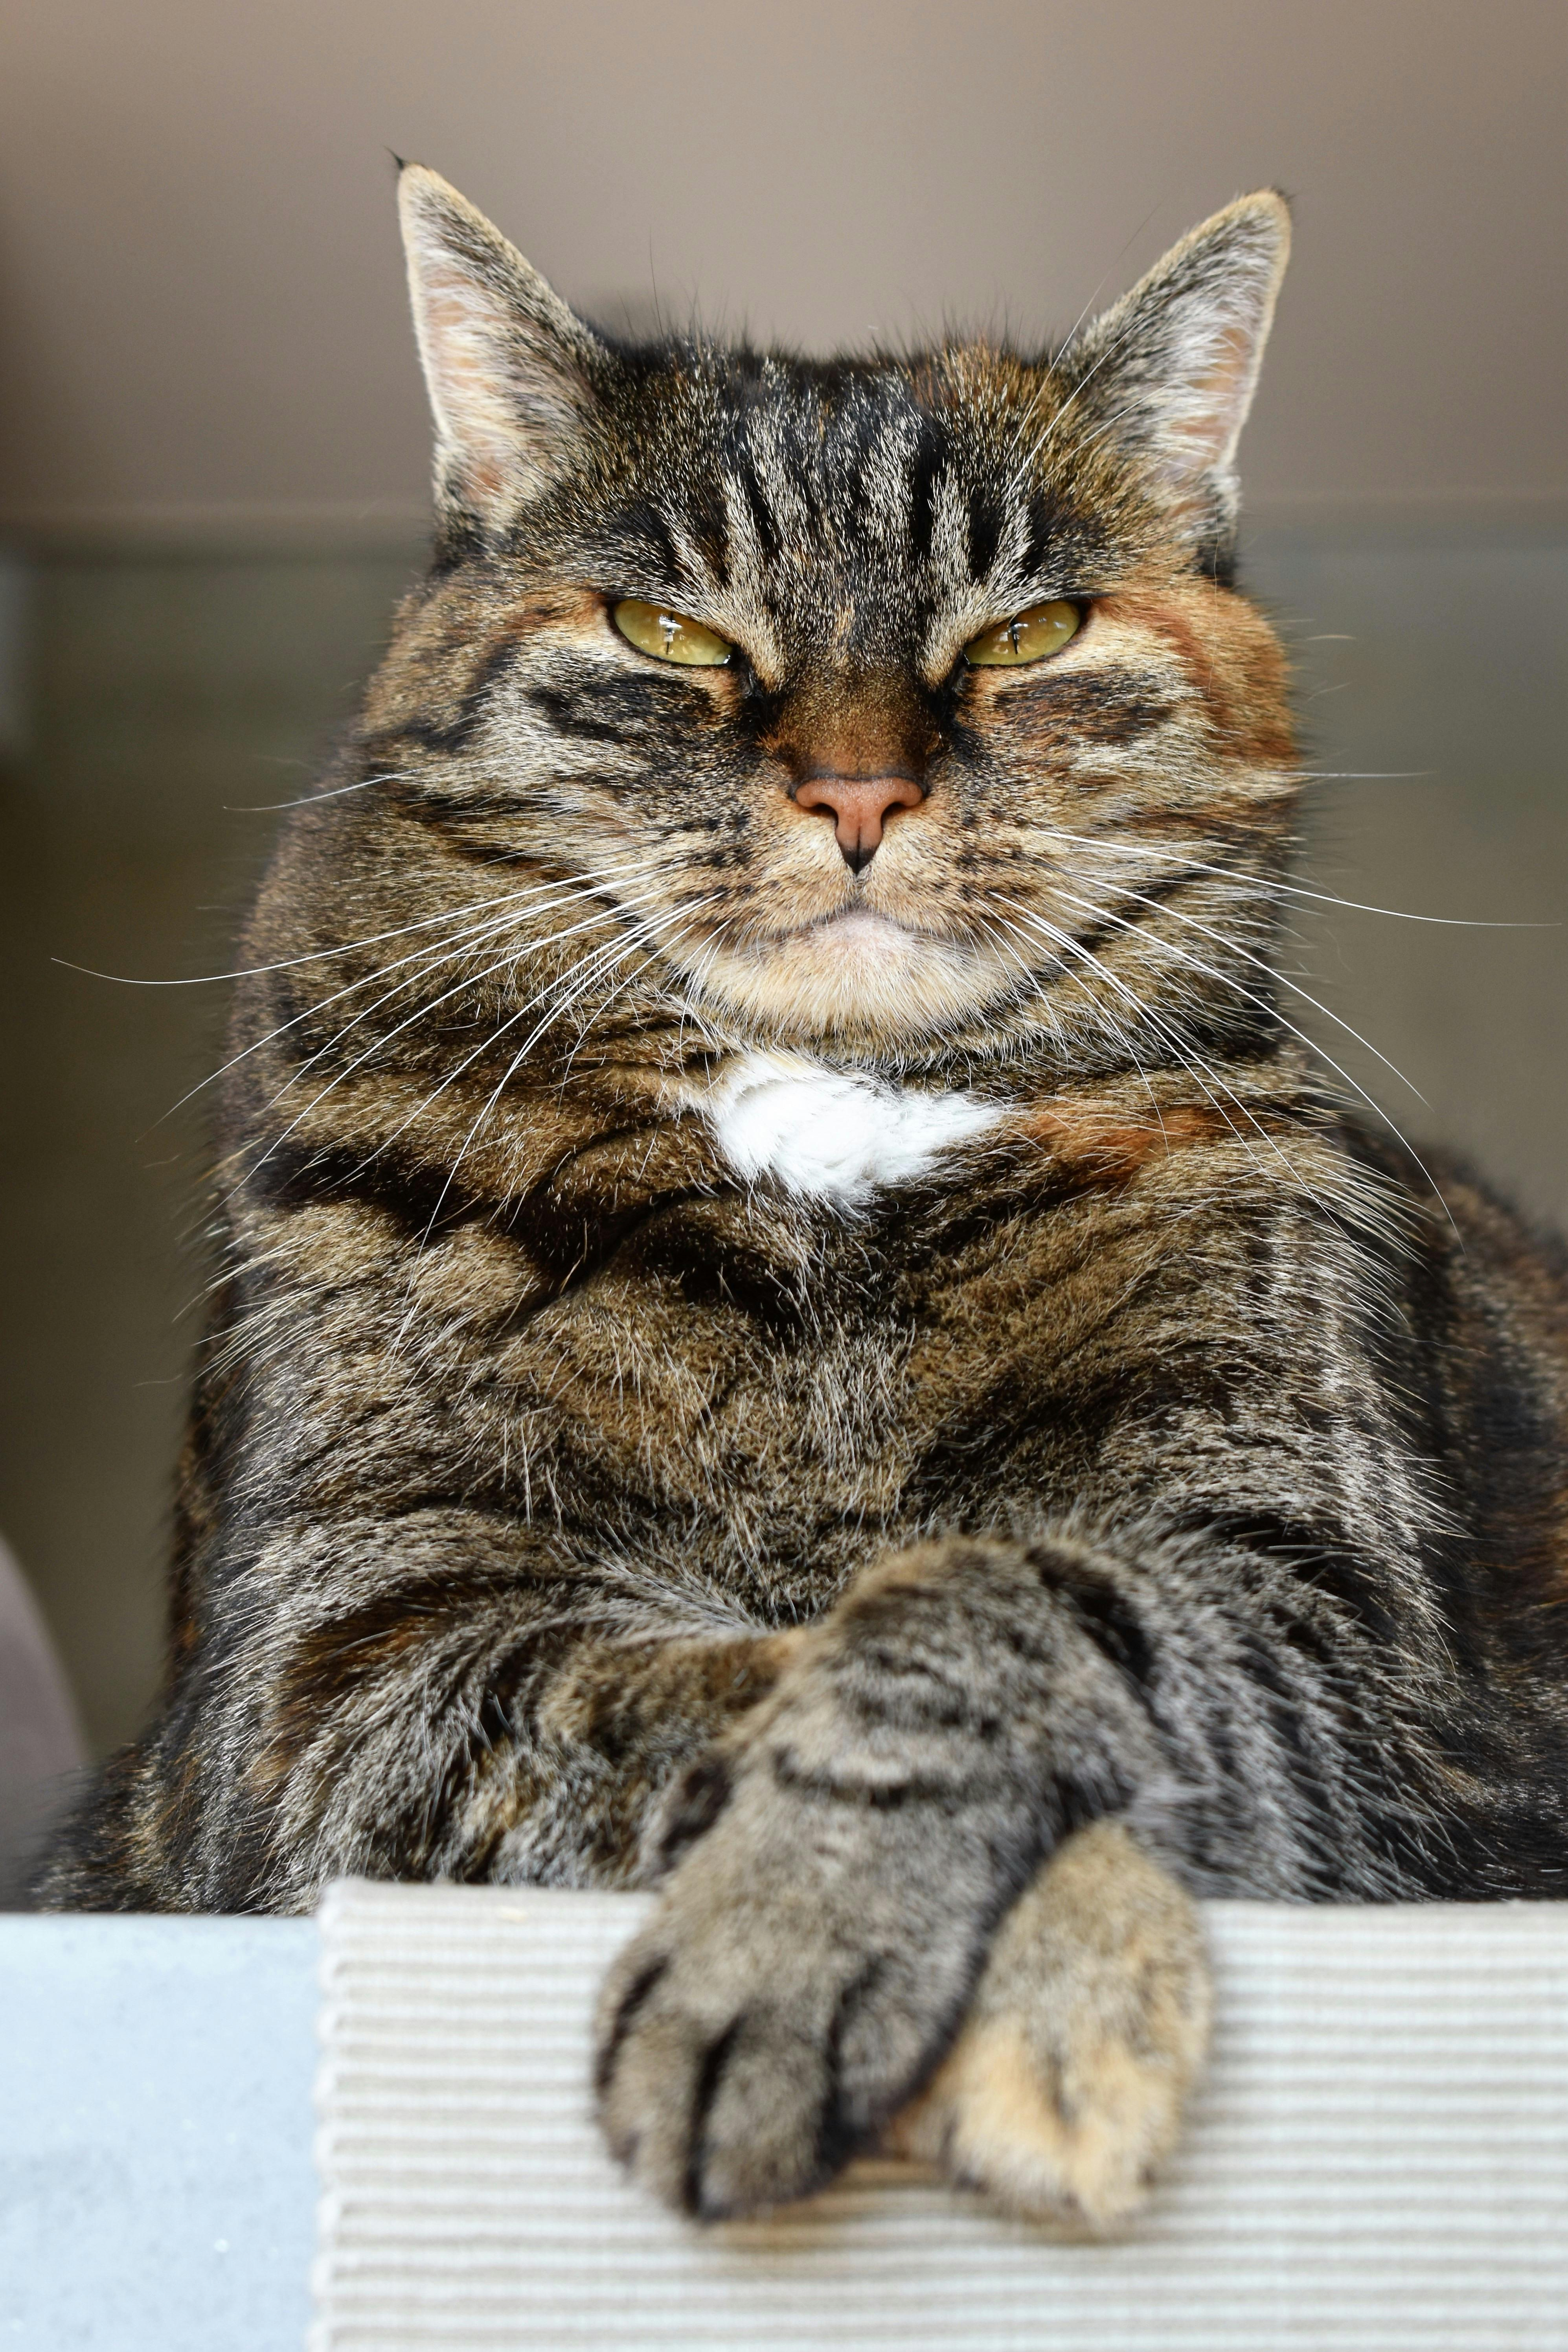kedo: (16, 157, 1568, 2236)
